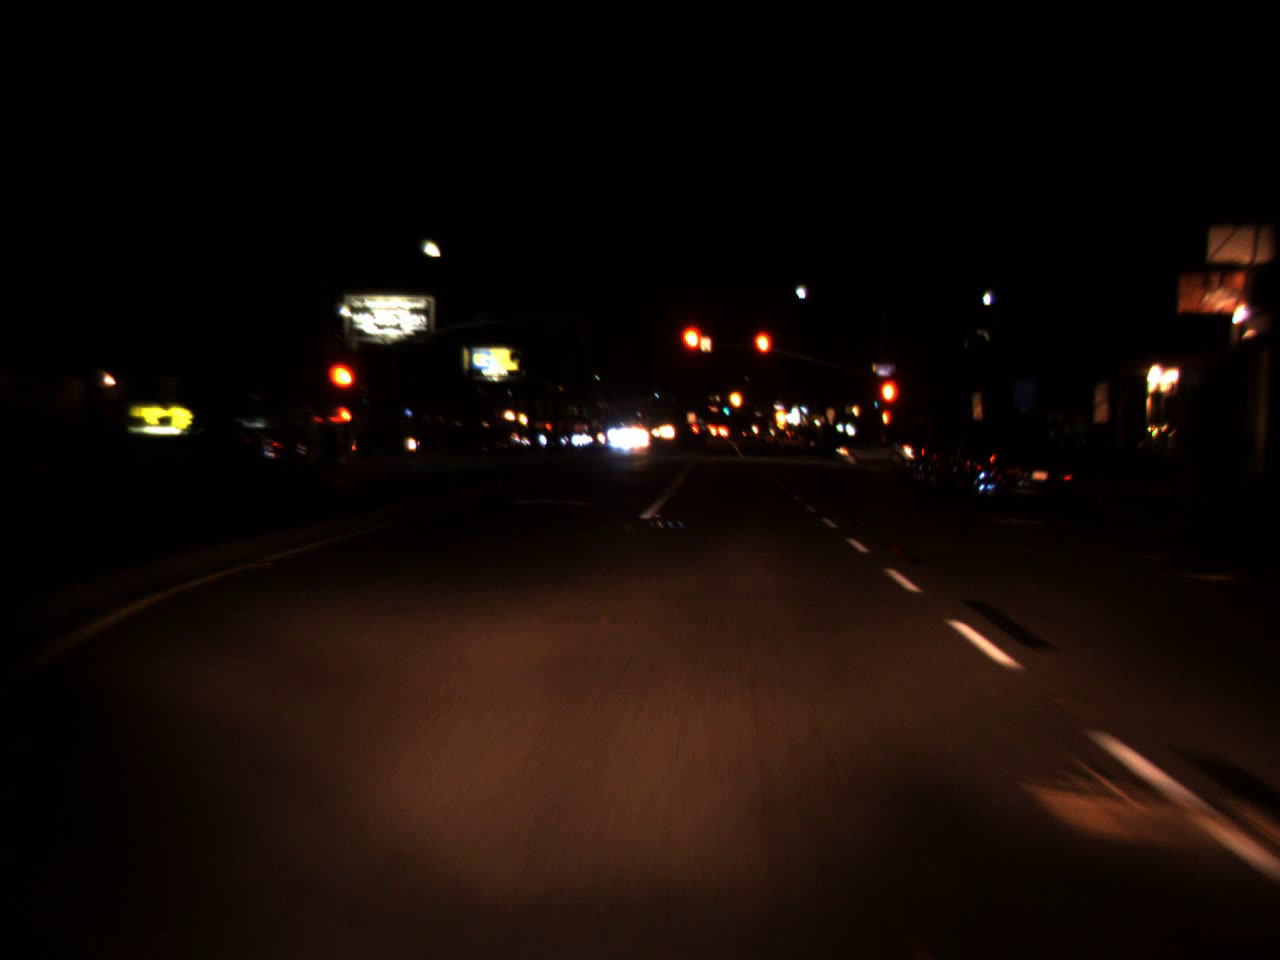go: (722, 401, 729, 416)
stop: (324, 359, 360, 421), (677, 322, 711, 378), (876, 377, 901, 431), (751, 328, 775, 379)
warning: (727, 382, 743, 412), (774, 401, 789, 431)
